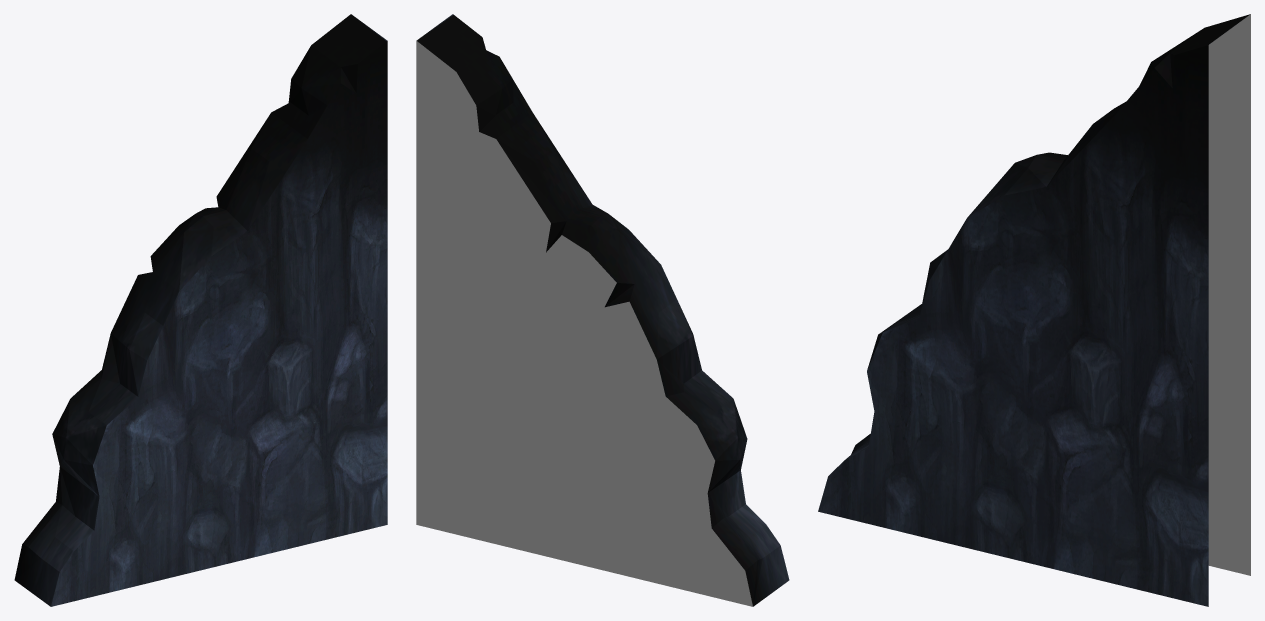
File: mine_fade_transition_08.fbx
3 views of the same model, side by side, from view 1: azimuth 30°, elevation 25°; view 2: azimuth 150°, elevation 25°; view 3: azimuth 330°, elevation 25° (orthographic). The views are drawn at different scales.
Visible parts, largest first — view 1: obj2.017; view 2: obj2.017; view 3: obj2.017.
Part boxes in pixels (bbox=[...]): obj2.017: bbox=[14, 14, 387, 606]; obj2.017: bbox=[416, 14, 789, 606]; obj2.017: bbox=[818, 14, 1250, 606].
Bounding box in the file's own units: 4 × 5.5 × 0.75.
